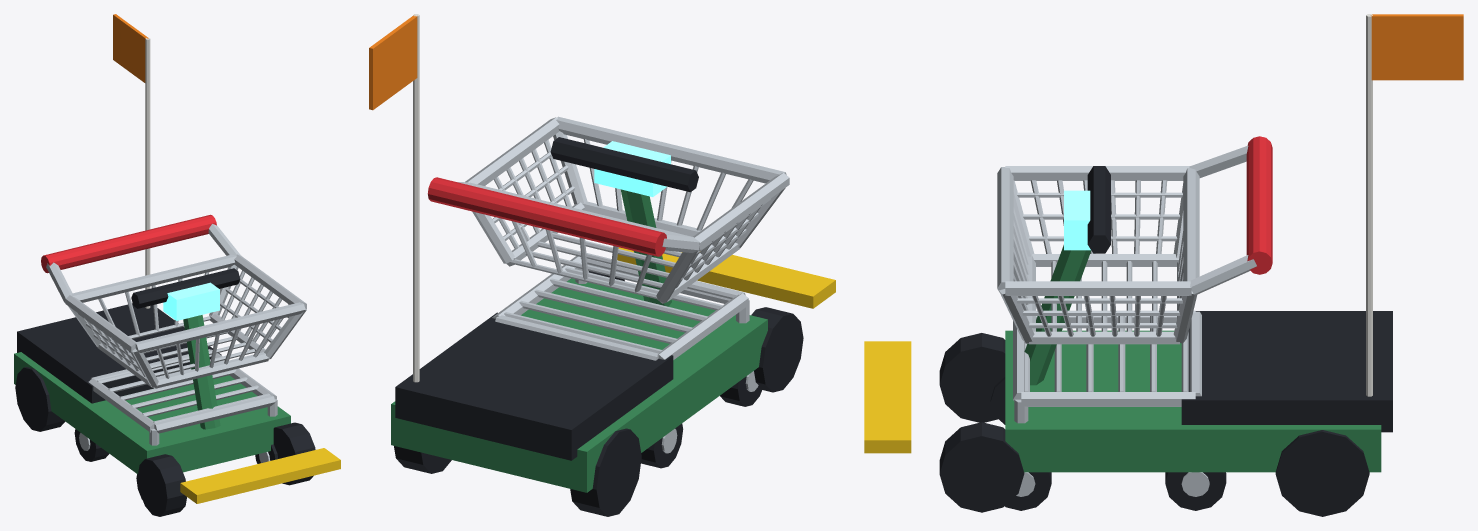
File: cart-scooter.glb
3 renders of one model, left to right at view 1: azimuth 30°, elevation 25°; view 2: azimuth 150°, elevation 25°; view 3: azimuth 270°, elevation 25°, orthographic. The views are drawn at different scales.
Visible parts, largest first — view 1: cart-scooter; view 2: cart-scooter; view 3: cart-scooter.
Part boxes in pixels (box(x1,y1,x2,y2)): cart-scooter: box(14, 14, 340, 516); cart-scooter: box(369, 14, 835, 516); cart-scooter: box(864, 14, 1463, 516).
Size of the model in its own units: 1.22 by 2.3 by 2.55.
